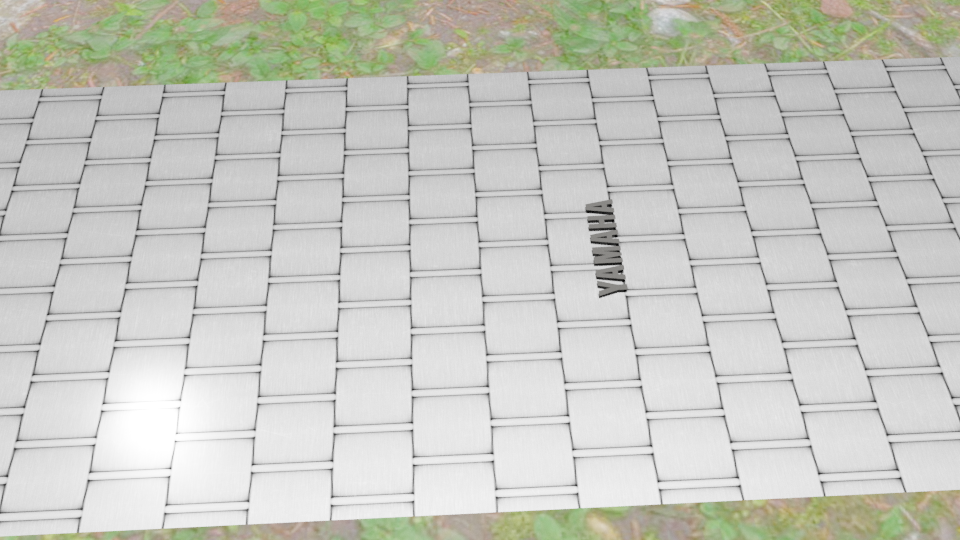yamaha_letters: (584, 198, 628, 296)
